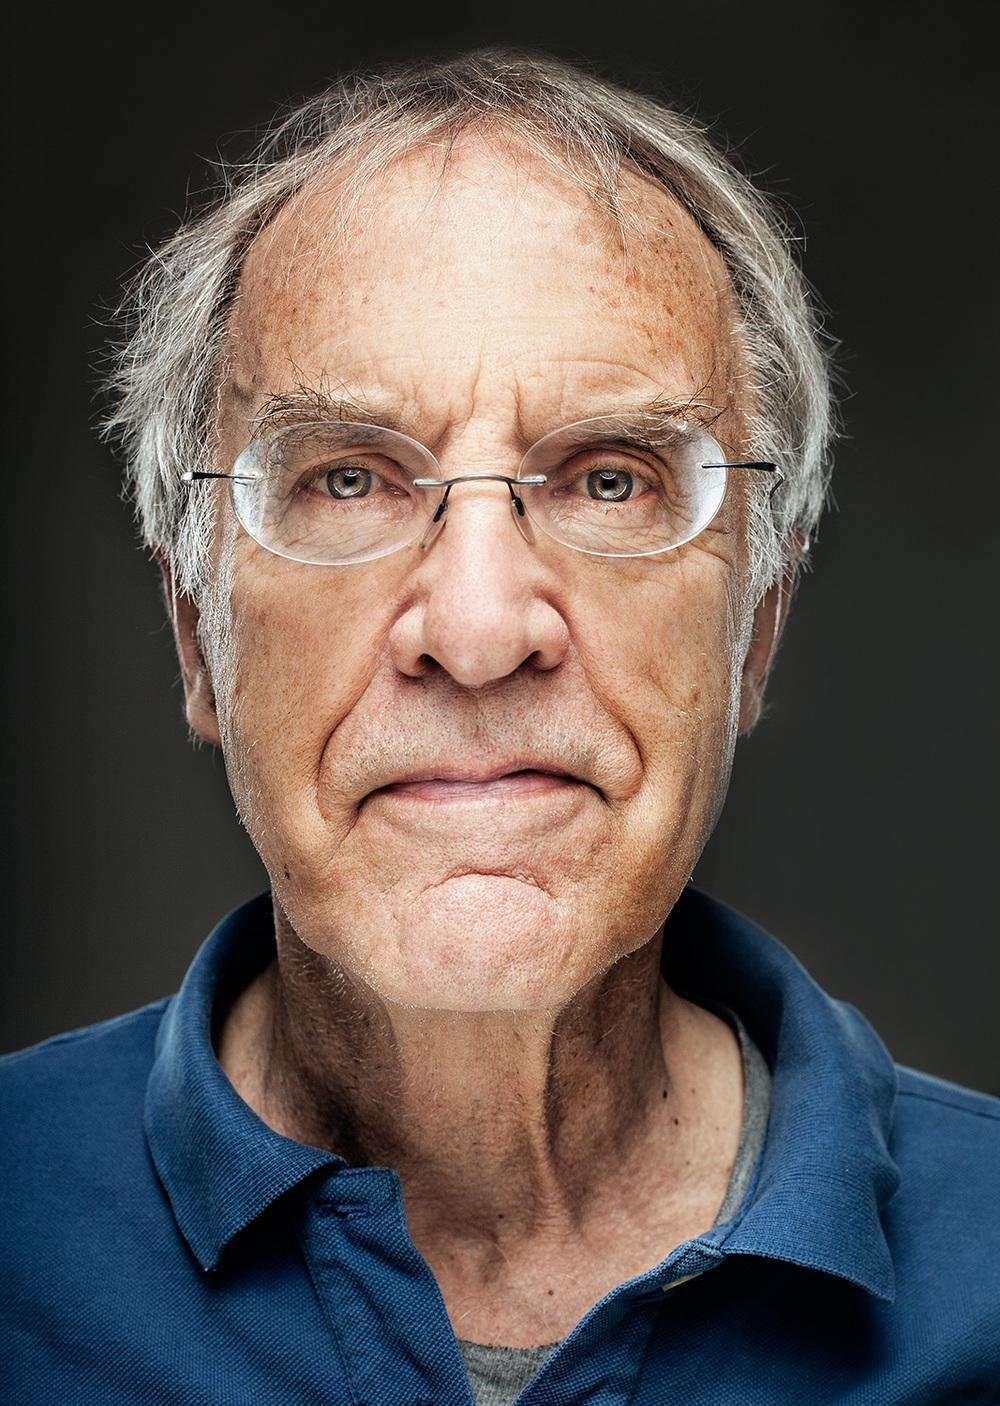Sober: (225, 181, 726, 1006)
